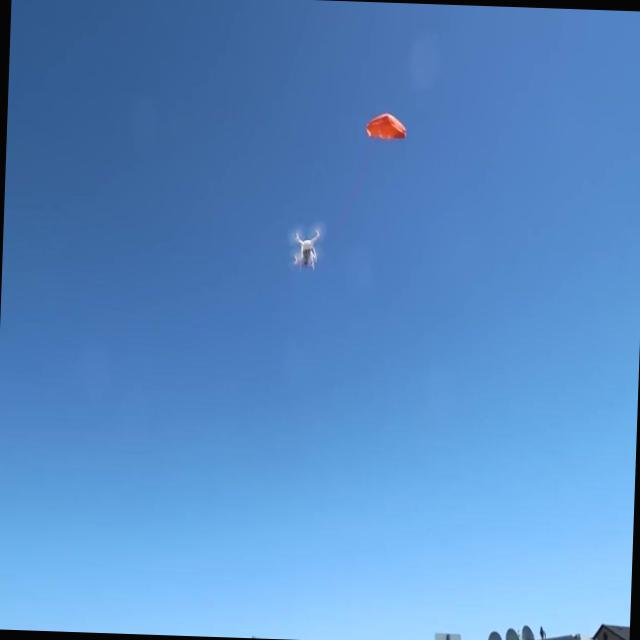drone: (290, 228, 321, 274)
